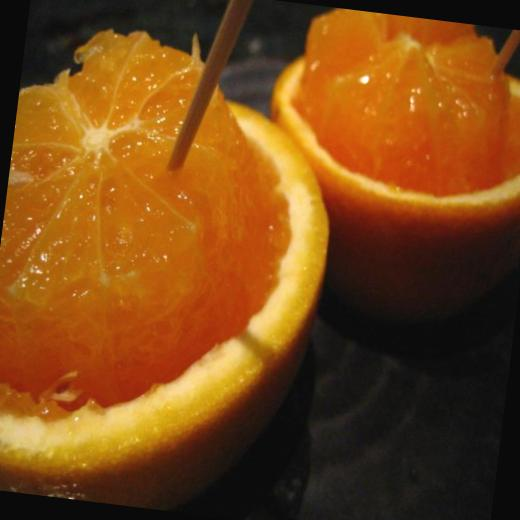Grape: (0, 13, 352, 520), (249, 1, 520, 322)
